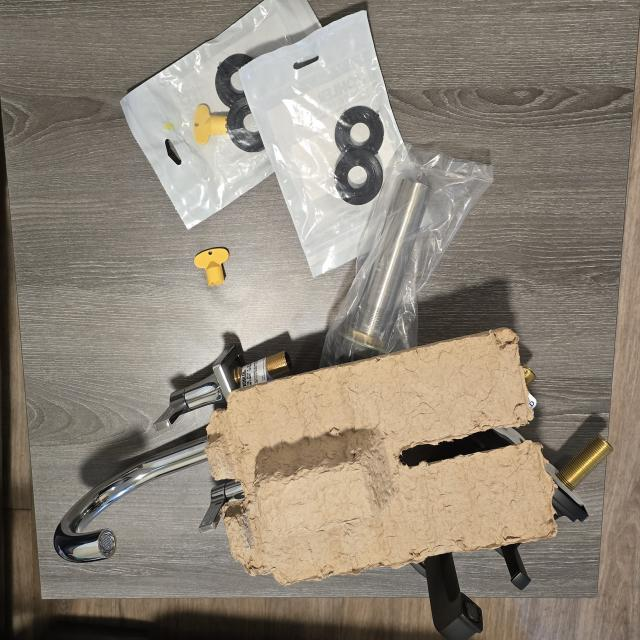10o: (53, 432, 207, 562), (154, 344, 291, 430), (199, 479, 245, 533)
11o: (320, 146, 492, 367)
12o: (121, 0, 321, 229)
13o: (240, 11, 405, 276)
14: (194, 247, 229, 286)
9o: (410, 553, 483, 640), (544, 435, 612, 521), (400, 429, 520, 466), (496, 542, 531, 589), (521, 363, 536, 387), (528, 387, 537, 412)
